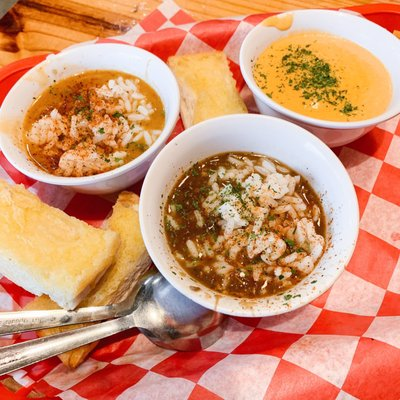soup: (0, 177, 120, 315)
sushi: (138, 114, 361, 319), (0, 40, 181, 196), (239, 10, 400, 146)
